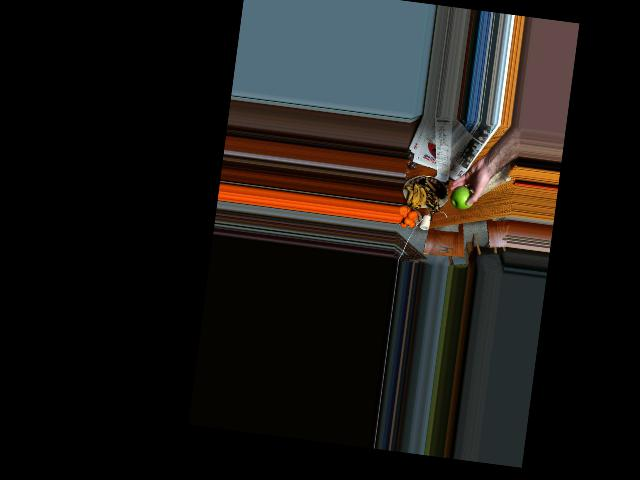apple: (449, 183, 476, 211)
